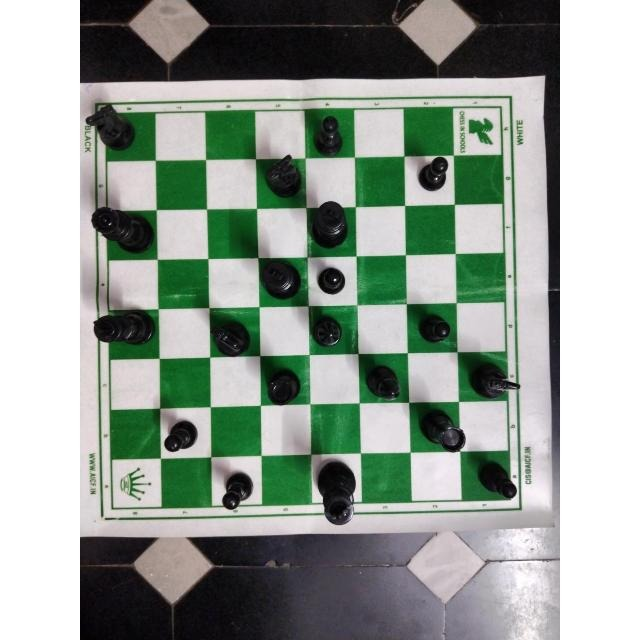black-bishop: (365, 362, 407, 406), (308, 312, 346, 350)
black-king: (313, 458, 360, 526), (91, 307, 156, 348), (310, 199, 354, 253), (257, 259, 303, 299)
black-knight: (80, 103, 139, 153), (468, 359, 521, 406), (263, 152, 304, 203), (209, 317, 255, 357)
black-pawn: (472, 458, 521, 504), (310, 111, 349, 156), (219, 468, 257, 512), (162, 417, 202, 455), (415, 158, 454, 194), (416, 309, 452, 346), (313, 263, 349, 297)
black-queen: (89, 204, 157, 254)
black-rook: (418, 411, 472, 455), (265, 368, 303, 412)
